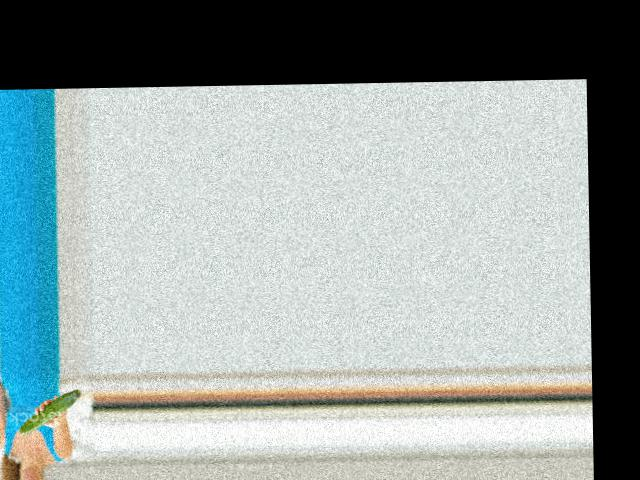cucumber: (18, 388, 81, 434)
